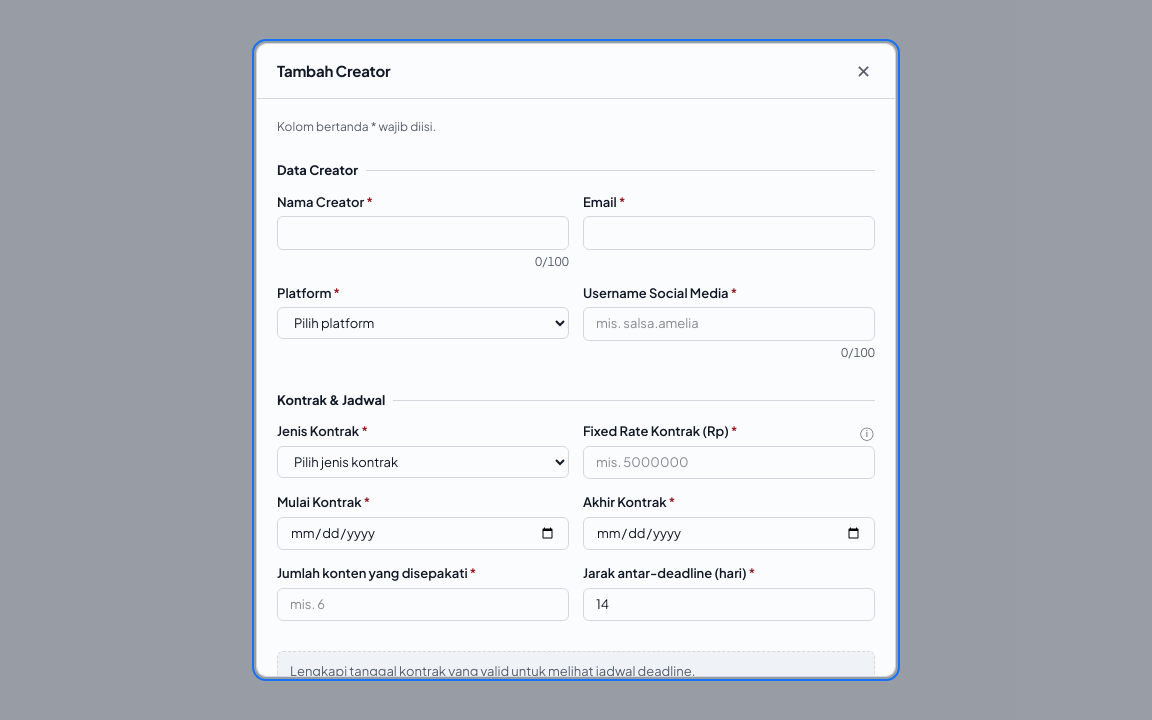
AddCreatorModal › leaving a half-filled form › asks on the close button too
Type "Bagas" into the field labelled "Nama Creator*" at (423, 233), box [277,216,569,250]
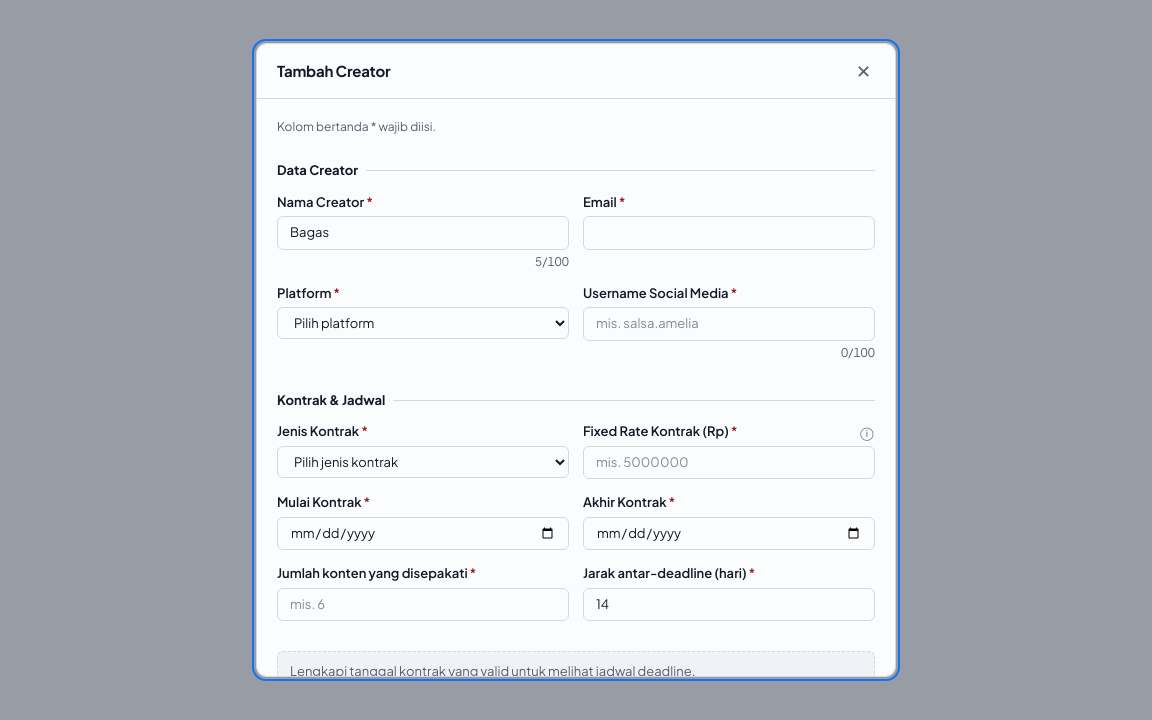
Click the button named "Tutup dialog" at (863, 71), box [852,62,875,80]
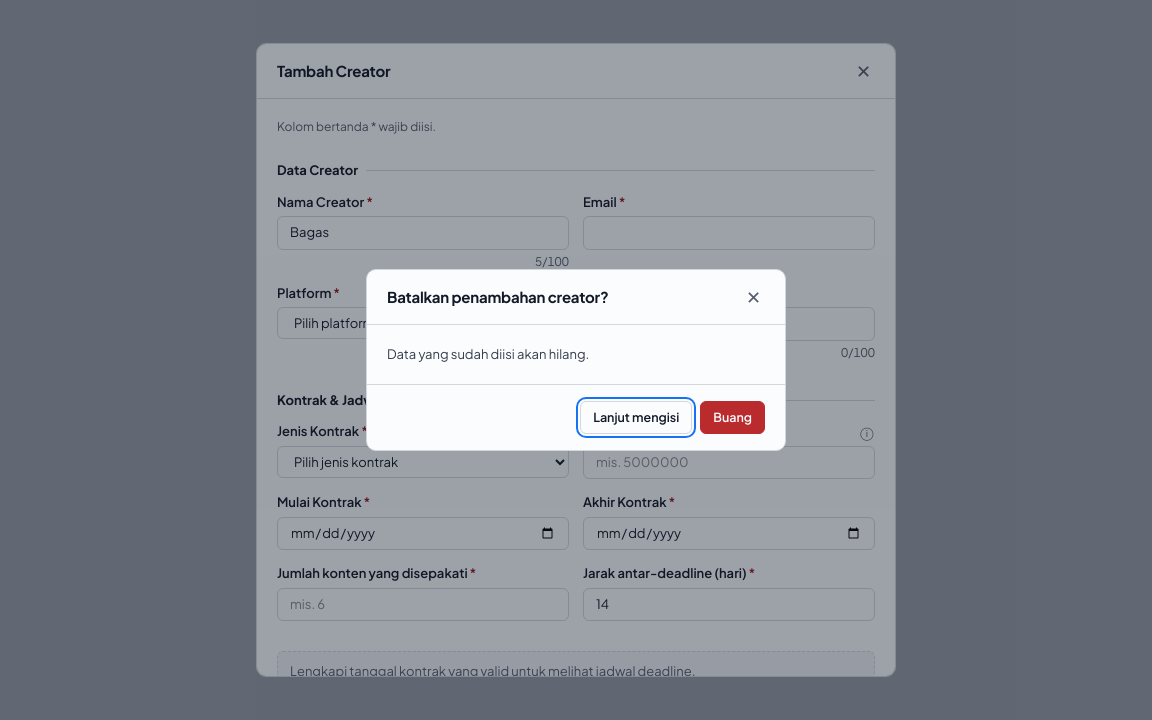
Expected: the dialog is shown, [366,269,786,451]
